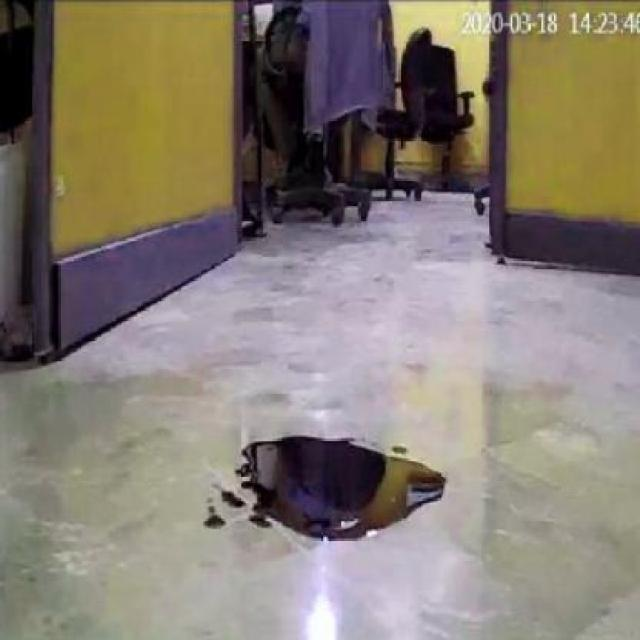spillage: (235, 433, 450, 540)
